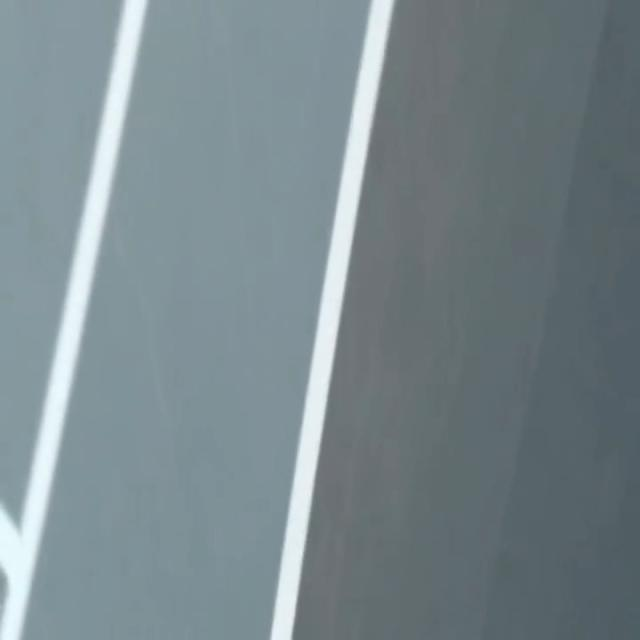left: (270, 0, 395, 639)
